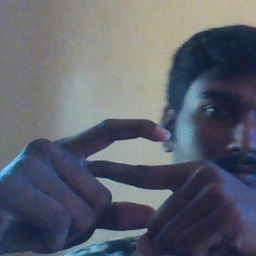E: (66, 112, 184, 238)
